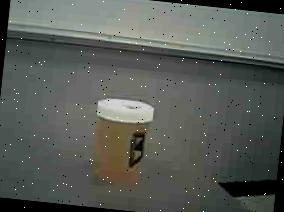Bottle B: (82, 88, 161, 190)
